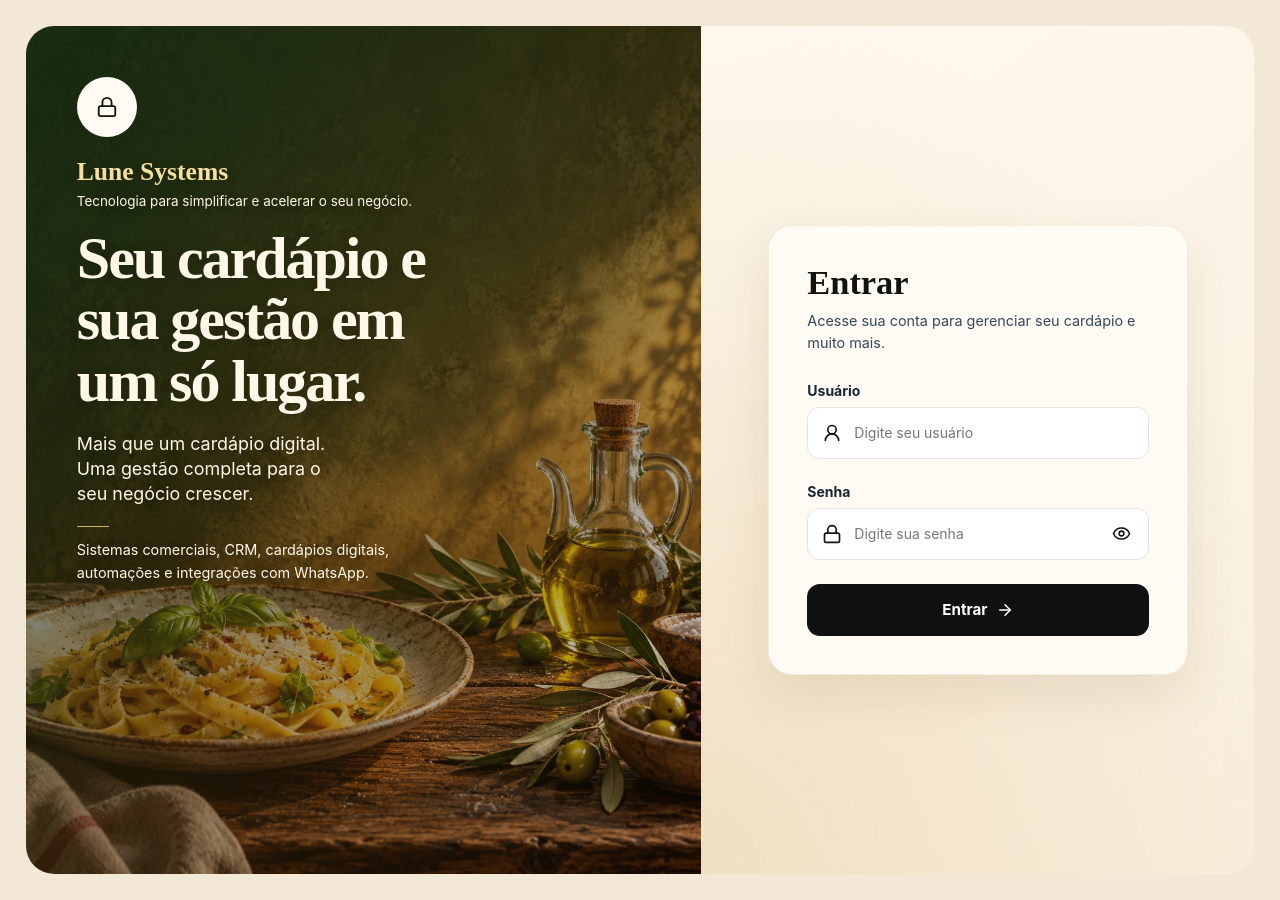
Test: login interface › shows and hides the existing password by keyboard without submitting
Type "test-password" into the password field labelled "Senha" at (971, 534), box [854,508,1088,558]
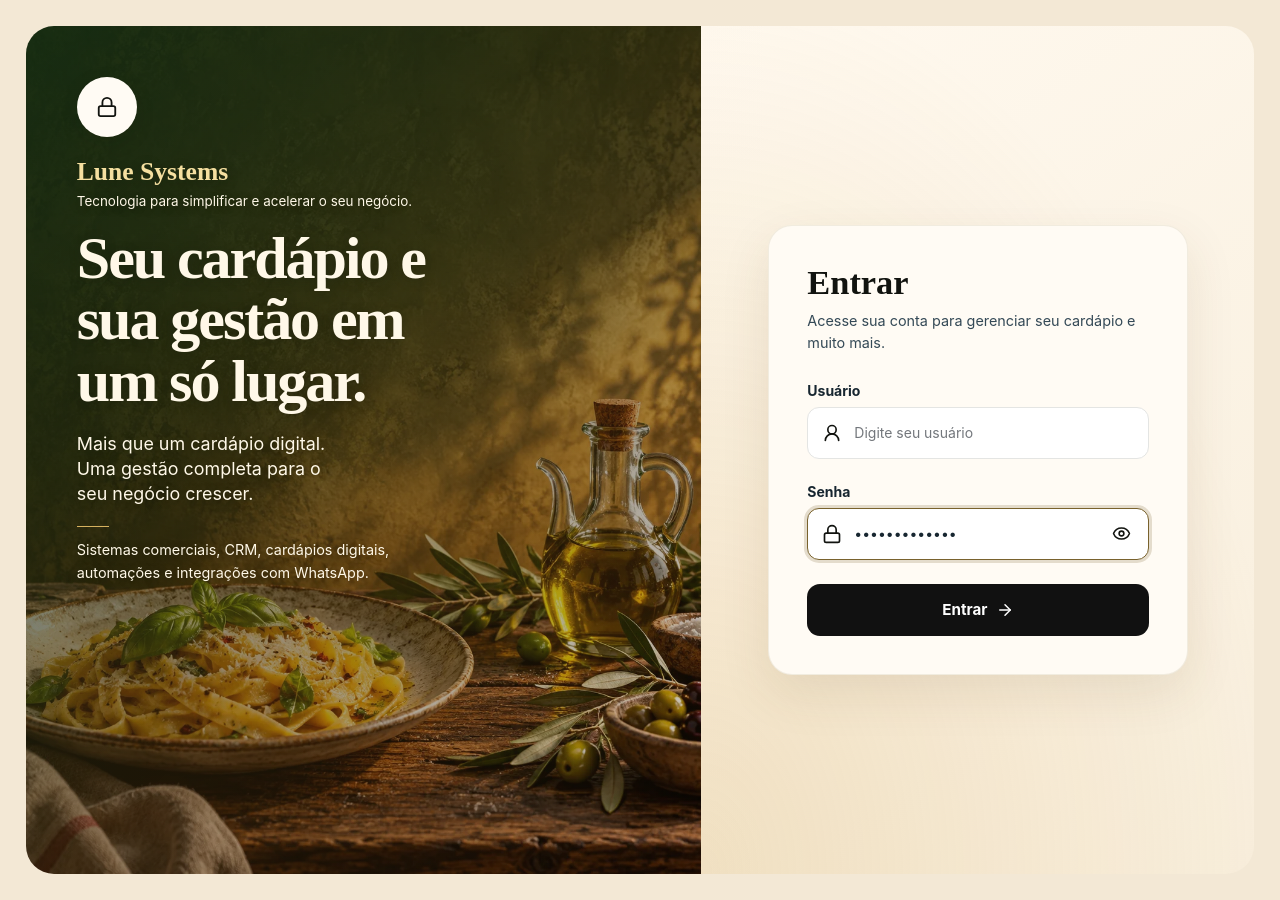
Press Tab
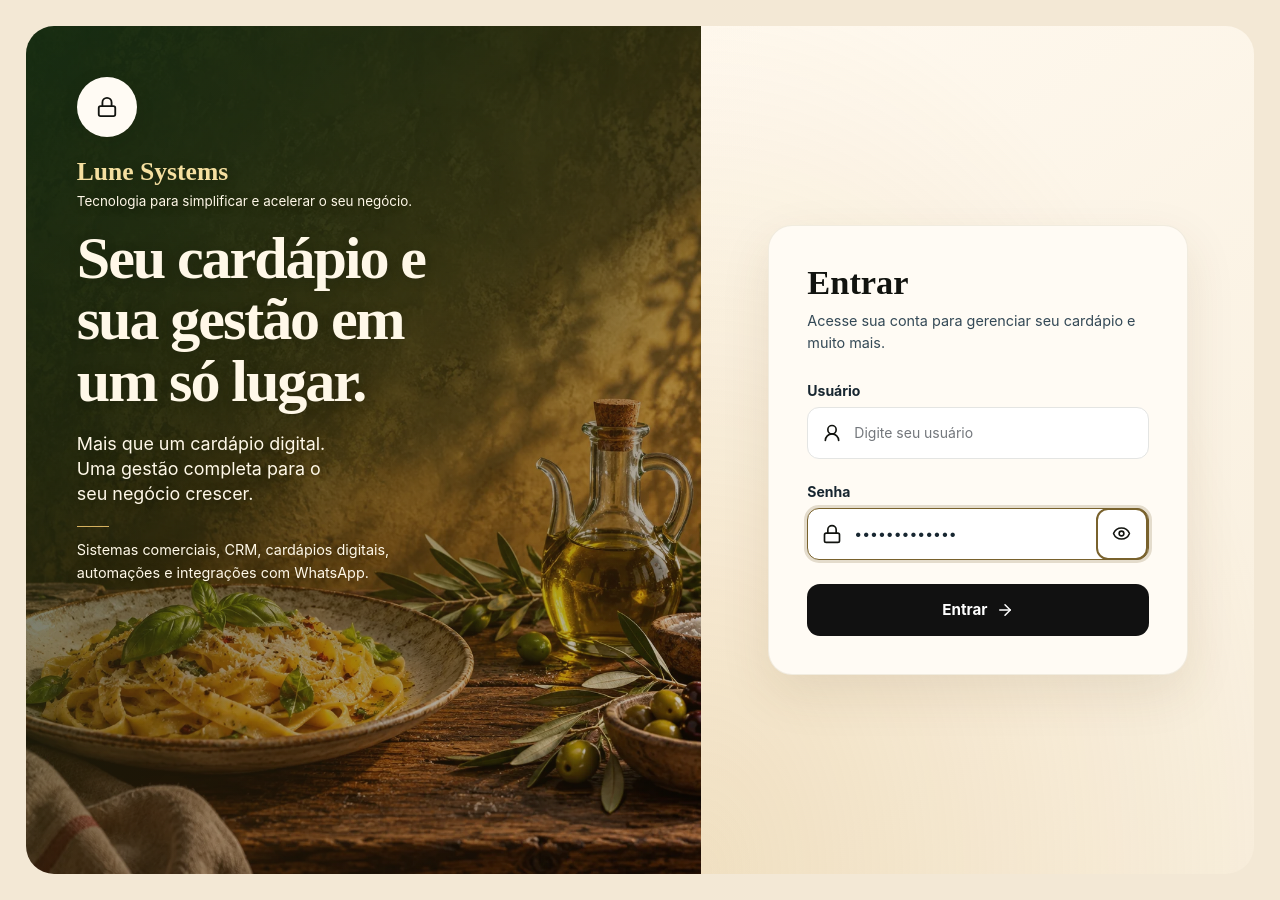
Press Enter
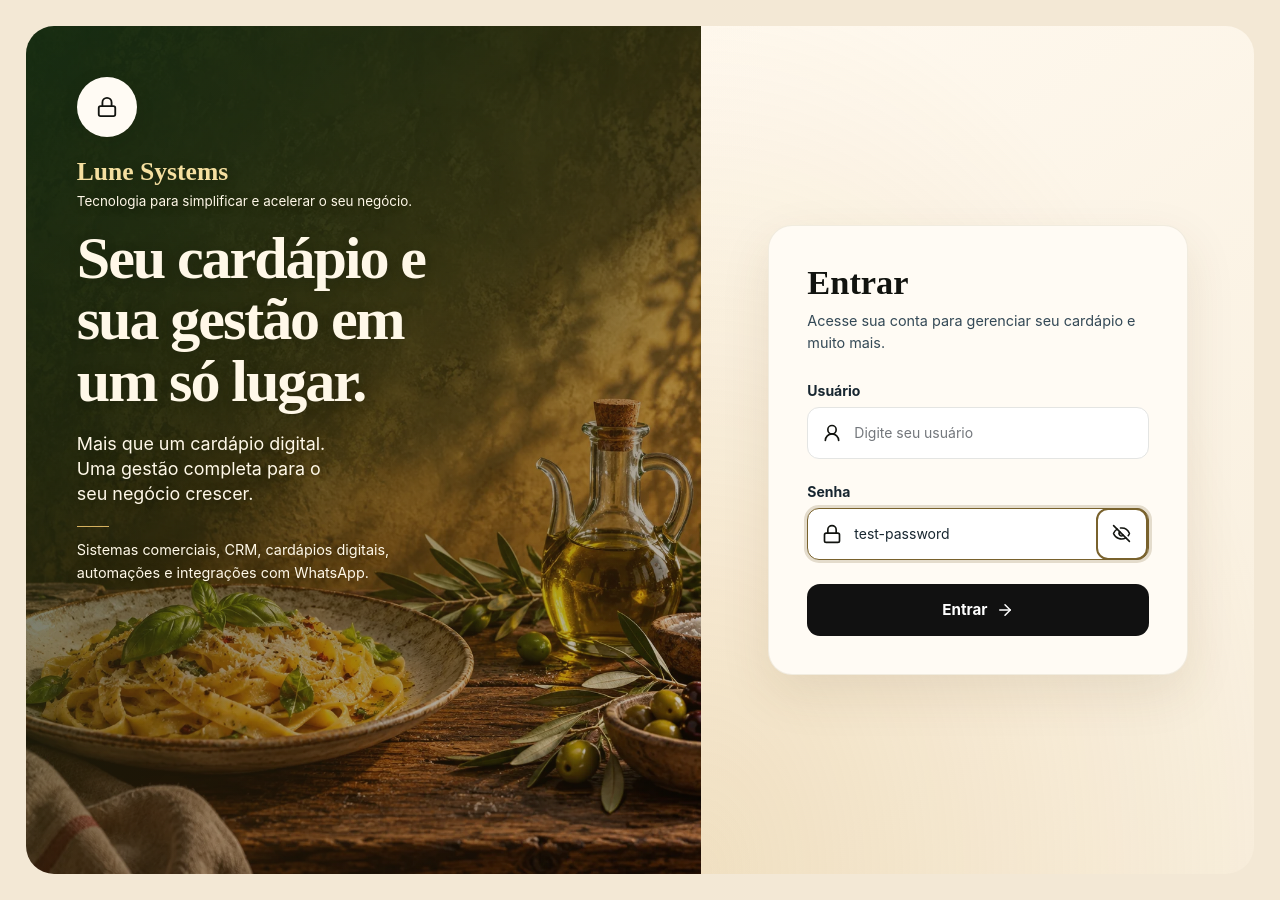
Expected: the field labelled "Senha" shows its text, [854,508,1088,558]
Type keys " "
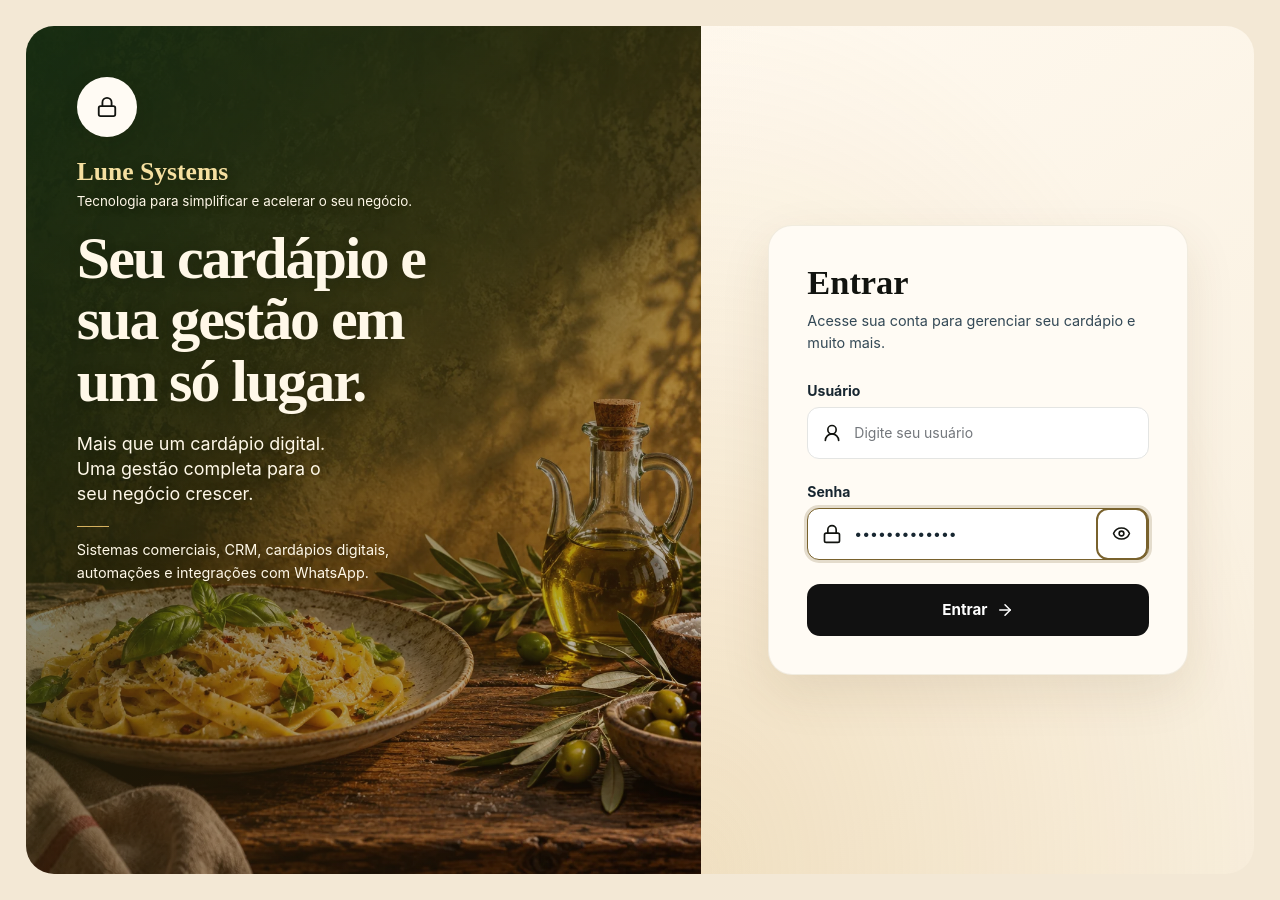
Expected: the password field labelled "Senha" hides its text, [854,508,1088,558]
